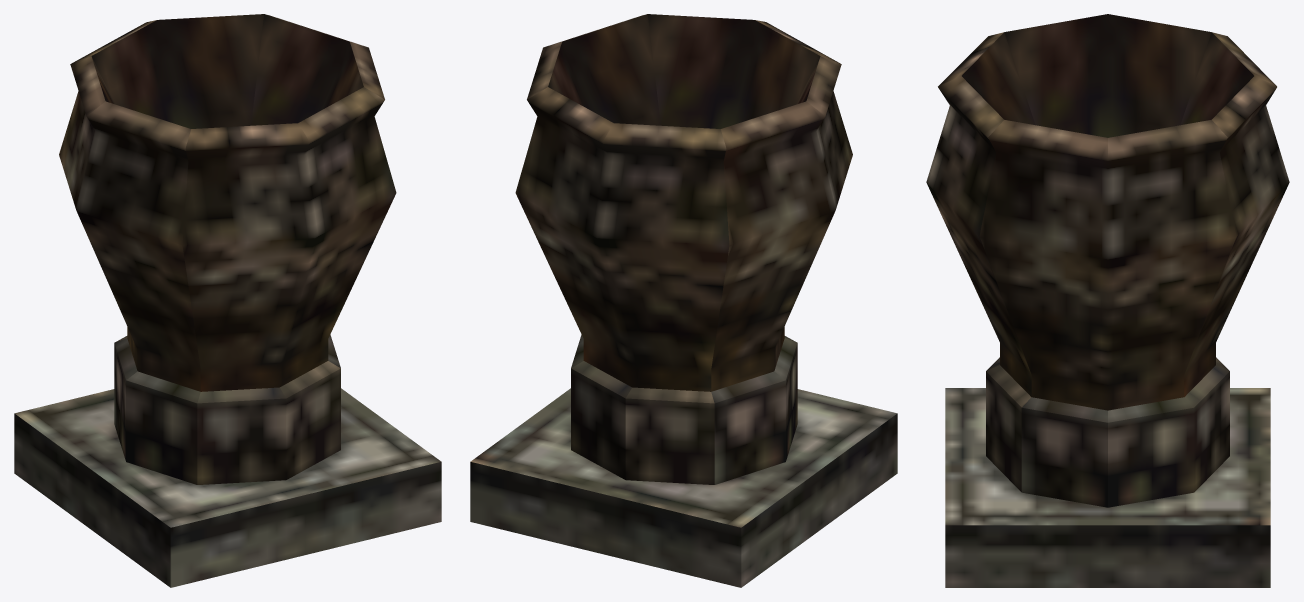
File: general_obj_brazier_01.glb
3 views of the same model, side by side, from view 1: azimuth 30°, elevation 25°; view 2: azimuth 150°, elevation 25°; view 3: azimuth 270°, elevation 25° (orthographic). The views are drawn at different scales.
Visible parts, largest first — view 1: Object07; view 2: Object07; view 3: Object07.
Boxes of the visible parts, <box> form: Object07: <box>14,14,441,587</box>; Object07: <box>470,14,897,587</box>; Object07: <box>926,14,1289,587</box>.
Size of the model in its own units: 1.3 by 1.75 by 1.3.
Materials: 1 (1 with a texture image).
